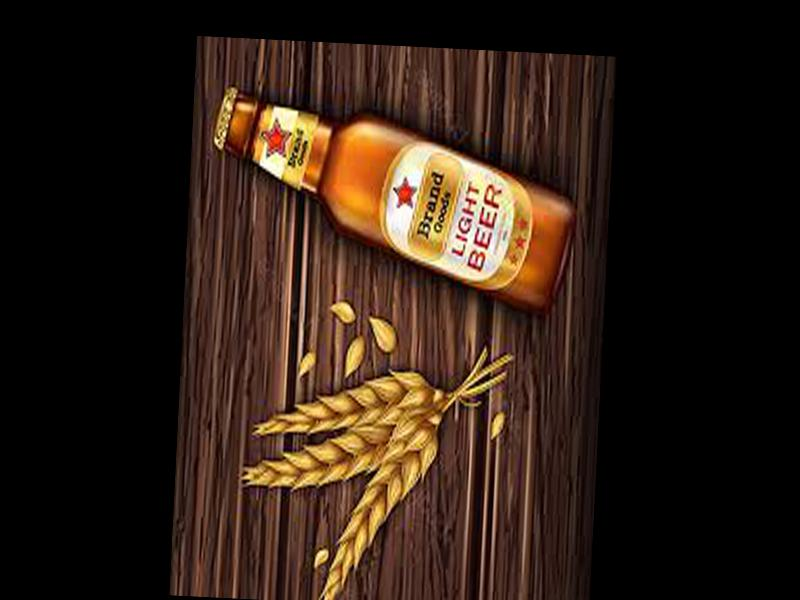Beer: (205, 83, 579, 313)
